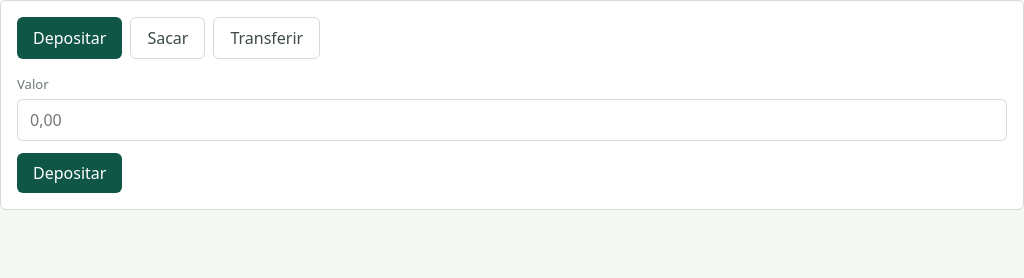
valor › não envia nada quando o valor é inválido
This screenshot has width=1024, height=278.
Type "0" into the field labelled "Valor" at x=512, y=120, box [17,99,1007,141]
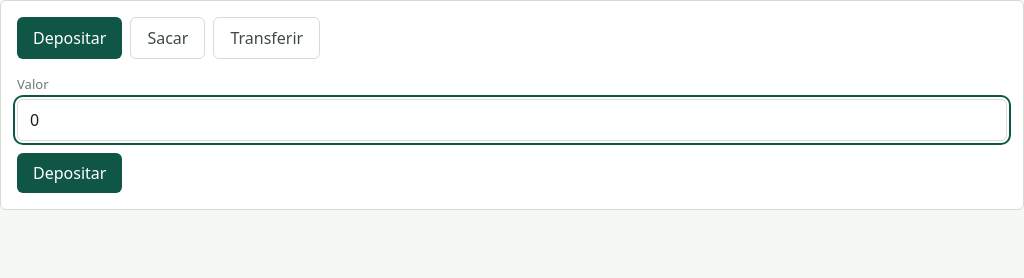
Click the button "Depositar" at x=70, y=173, box [17,153,122,193]
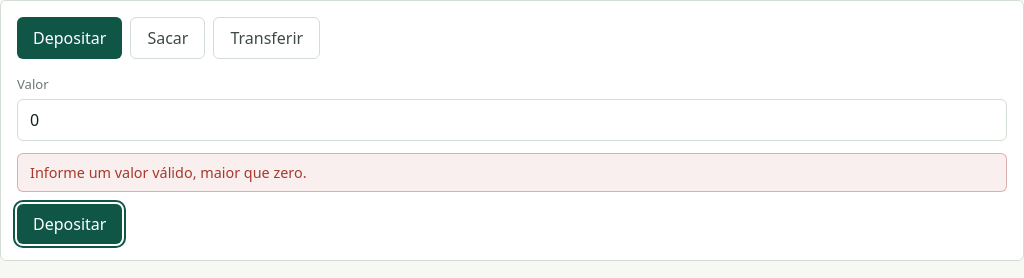
Expected: the message shows "maior que zero", [30,163,307,182]
